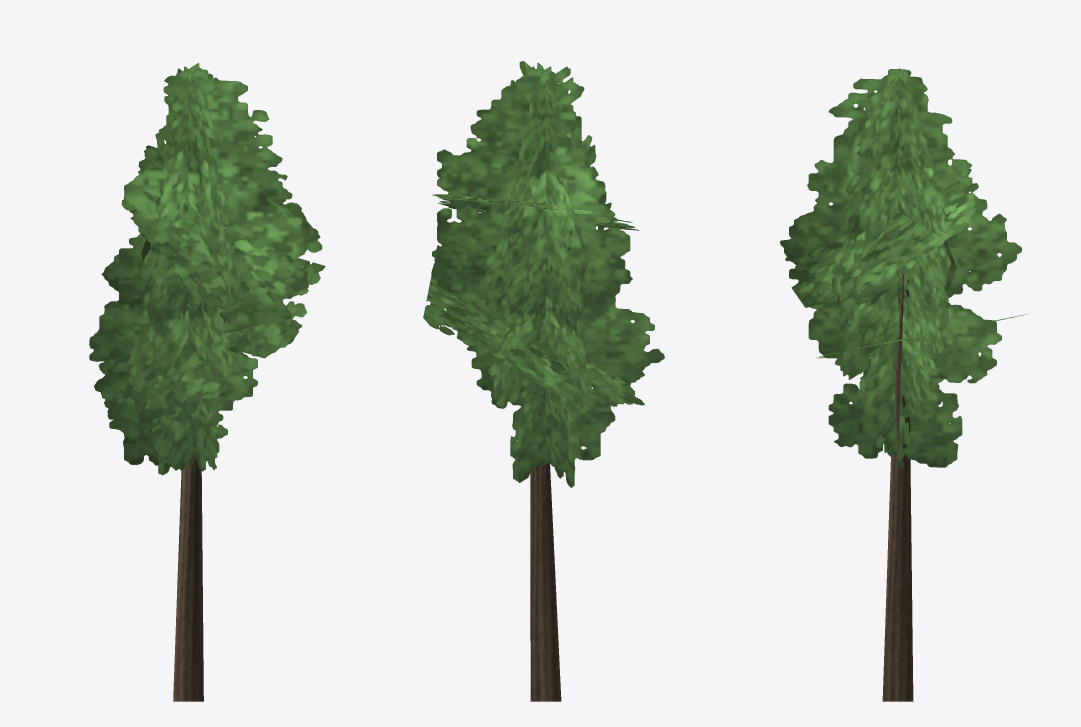
Rendered from tree-broadleaf-3.glb.
3 views of the same model, side by side, from view 1: azimuth 30°, elevation 25°; view 2: azimuth 150°, elevation 25°; view 3: azimuth 270°, elevation 25° (orthographic).
Parts seen in each view (by area): view 1: tree-broadleaf-3; view 2: tree-broadleaf-3; view 3: tree-broadleaf-3.
Boxes of the visible parts, x1,y1,x2,y2 form: tree-broadleaf-3: (89, 63, 325, 701); tree-broadleaf-3: (423, 61, 664, 701); tree-broadleaf-3: (780, 68, 1027, 701).
Size of the model in its own units: 0.4899 by 1.08 by 0.5123.
1 material, 1 textured.
